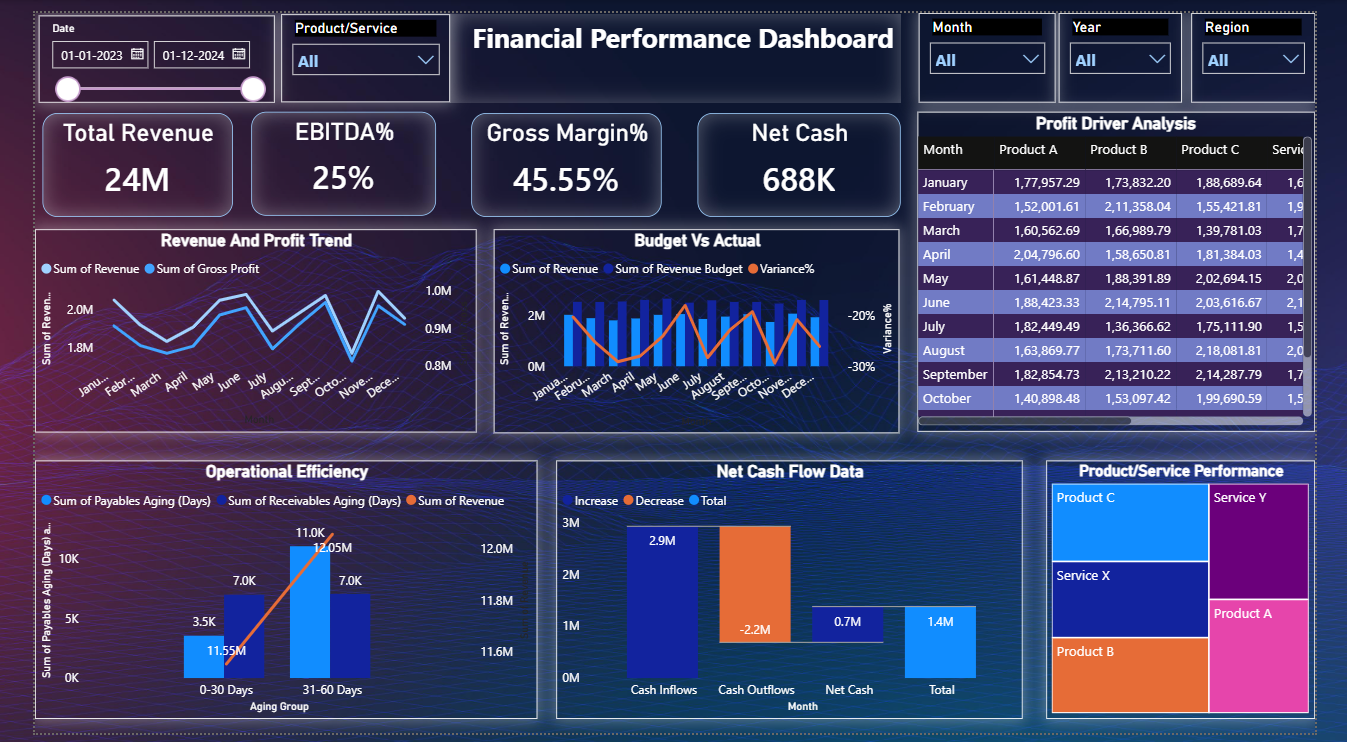

The dashboard page shown, as its layout file describes it:
{"tool":"powerbi","page":{"name":"Page 1","canvas":[1280,720],"ordinal":0},"visuals":[{"type":"textbox","box":[415,1.2,451.2,88.8],"z":0},{"type":"lineChart","title":"Revenue And Profit Trend","fields":{"Y":["Sum(Data.Revenue)"],"Y2":["Sum(Data.Gross Profit)"],"Category":["Data.Month.Variation.Date Hierarchy.Month"]},"box":[0,216.4,441.4,203],"z":1000},{"type":"slicer","fields":{"Values":["Data.Region"]},"box":[1155.6,0,124.4,89.6],"z":2000},{"type":"treemap","title":" Product/Service Performance","fields":{"Values":["Sum(Data.Revenue)"],"Group":["Data.Product/Service"]},"box":[1011.2,447.5,268.8,258.8],"z":3000},{"type":"lineClusteredColumnComboChart","title":"Operational Efficiency","fields":{"Category":["Data.Payables Group"],"Y2":["Sum(Data.Revenue)"],"Y":["Sum(Data.Payables Aging (Days))","Sum(Data.Receivables Aging (Days))"]},"box":[0,447.5,502.5,258.8],"z":4000},{"type":"slicer","fields":{"Values":["Data.Month"]},"box":[3.7,2.5,236.4,87.1],"z":5000},{"type":"slicer","fields":{"Values":["Data.Product/Service"]},"box":[246.3,1.2,169.2,88.3],"z":6000},{"type":"slicer","fields":{"Values":["Data.Month.Variation.Date Hierarchy.Year"]},"box":[1023.8,0,123.2,89.6],"z":7000},{"type":"slicer","fields":{"Values":["Data.Month.Variation.Date Hierarchy.Month"]},"box":[883.2,0,136.8,89.6],"z":8000},{"type":"cardVisual","title":"Total Revenue","fields":{"Data":["Sum(Data.Revenue)"]},"box":[7.5,100,190,103.8],"z":9000},{"type":"cardVisual","title":"EBITDA%","fields":{"Data":["Data.EBITDA%"]},"box":[216.2,98.8,185,103.8],"z":10000},{"type":"cardVisual","title":"Gross Margin%","fields":{"Data":["Data.Gross Margin%"]},"box":[436.6,100.3,190.8,103.9],"z":11000},{"type":"waterfallChart","title":"Net Cash Flow Data","fields":{"Y":["Data.Net Cash Waterfall"],"Category":["WaterfallTable.Category"]},"box":[521.2,447.5,466.2,258.8],"z":12000},{"type":"lineClusteredColumnComboChart","title":"Budget Vs Actual","fields":{"Y":["Sum(Data.Revenue)","Sum(Data.Revenue Budget)"],"Y2":["Data.Variance%"],"Category":["Data.Month.Variation.Date Hierarchy.Month"]},"box":[458.6,216.4,406,204.2],"z":13000},{"type":"pivotTable","title":"Profit Driver Analysis","fields":{"Rows":["Data.Region","Data.Month.Variation.Date Hierarchy.Month"],"Columns":["Data.Product/Service"],"Values":["Sum(Data.Gross Profit)"]},"box":[882.5,98.8,397.5,320],"z":14000},{"type":"cardVisual","title":"Net Cash","fields":{"Data":["Data.Net Cash"]},"box":[661.9,99.6,203.3,103.8],"z":15000}]}

Visuals, with their boxes in screenshot pixels (x1, y1, x2, y2), scaled from the page's 1280x720 canvas onto the 1347x742 screenshot:
textbox: 437,1,912,93
"Revenue And Profit Trend" lineChart: 0,223,465,432
slicer - Data.Region: 1216,0,1346,92
" Product/Service Performance" treemap: 1064,461,1346,728
"Operational Efficiency" lineClusteredColumnComboChart: 0,461,529,728
slicer - Data.Month: 4,3,253,92
slicer - Data.Product/Service: 259,1,437,92
slicer - Data.Month.Variation.Date Hierarchy.Year: 1077,0,1207,92
slicer - Data.Month.Variation.Date Hierarchy.Month: 929,0,1073,92
"Total Revenue" cardVisual: 8,103,208,210
"EBITDA%" cardVisual: 228,102,422,209
"Gross Margin%" cardVisual: 459,103,660,210
"Net Cash Flow Data" waterfallChart: 548,461,1039,728
"Budget Vs Actual" lineClusteredColumnComboChart: 483,223,910,433
"Profit Driver Analysis" pivotTable: 929,102,1346,432
"Net Cash" cardVisual: 697,103,910,210
